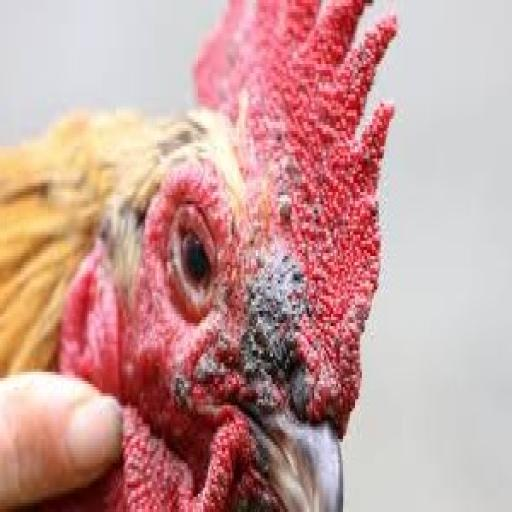disease: (144, 281, 328, 428), (255, 130, 323, 250)
